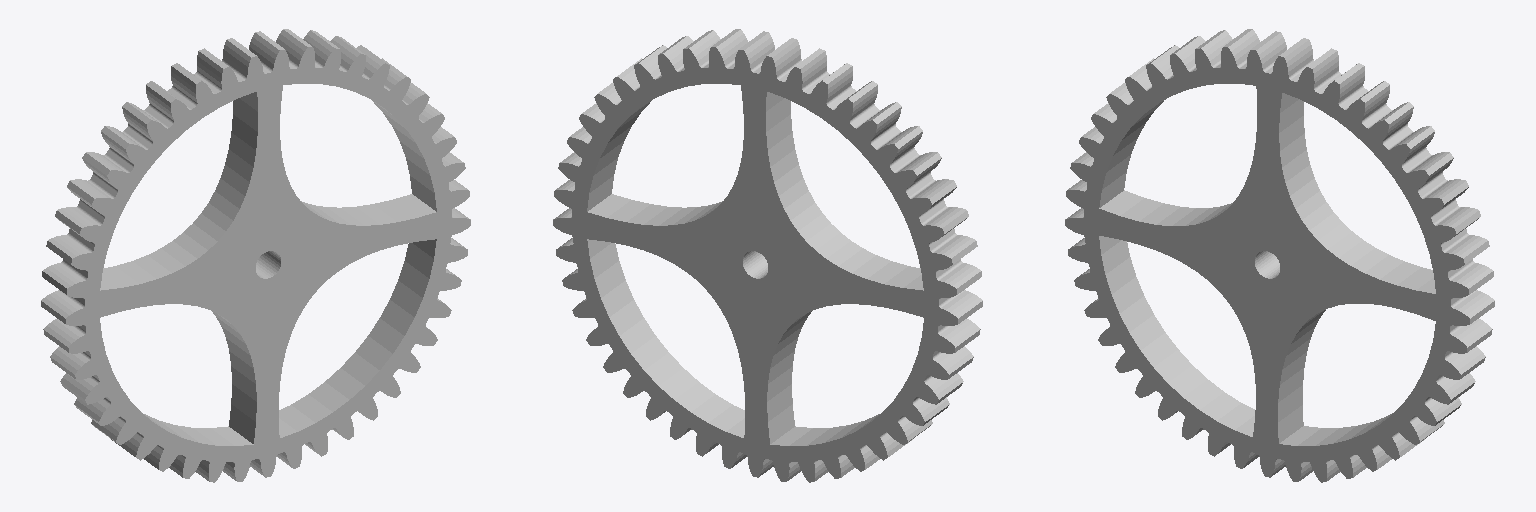
3 renders of one model, left to right at view 1: azimuth 30°, elevation 25°; view 2: azimuth 150°, elevation 25°; view 3: azimuth 330°, elevation 25°, orthographic.
Visible parts, largest first — view 1: mmGroup0; view 2: mmGroup0; view 3: mmGroup0.
Boxes of the visible parts, <box> form: mmGroup0: <box>41,29,470,482</box>; mmGroup0: <box>553,29,982,482</box>; mmGroup0: <box>1065,29,1494,482</box>.
Size of the model in its own units: 9.25 by 9.24 by 0.9843.